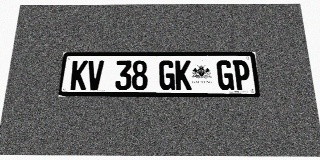3: (115, 60, 132, 90)
8: (131, 60, 148, 90)
G: (216, 60, 234, 90), (159, 60, 175, 90)
K: (70, 60, 88, 90), (175, 60, 192, 90)
P: (232, 60, 251, 90)
V: (86, 60, 104, 90)
